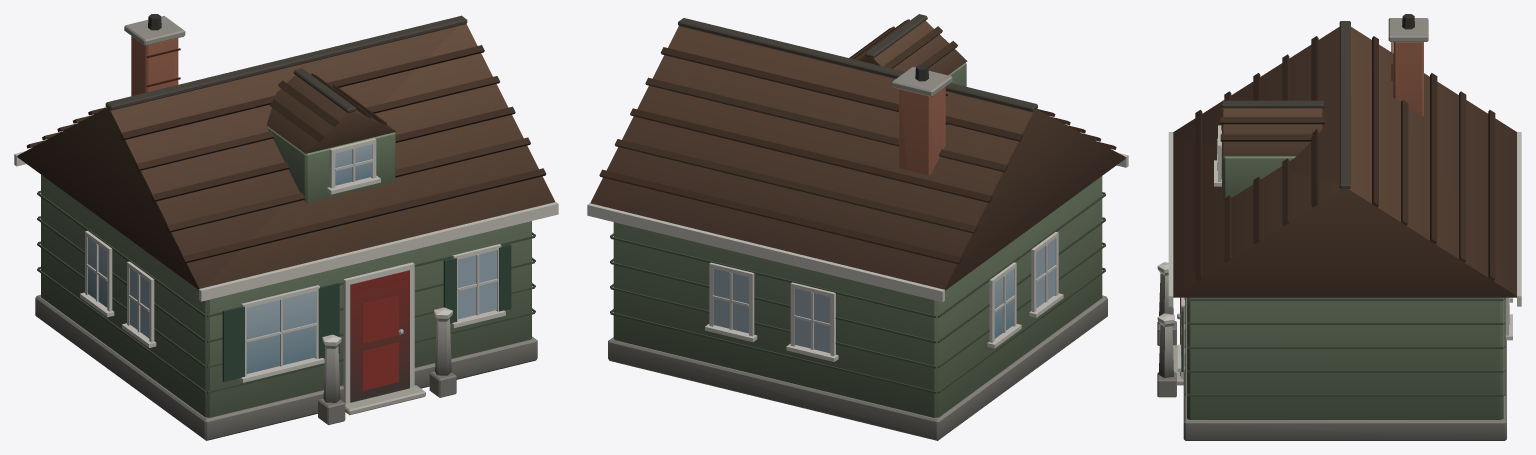
File: bungalow-house.glb
3 renders of one model, left to right at view 1: azimuth 30°, elevation 25°; view 2: azimuth 150°, elevation 25°; view 3: azimuth 270°, elevation 25°, orthographic. The views are drawn at different scales.
Visible parts, largest first — view 1: bungalow_house; view 2: bungalow_house; view 3: bungalow_house.
Boxes of the visible parts, left/top/right/bottom form: bungalow_house: left=14, top=14, right=558, bottom=440; bungalow_house: left=587, top=14, right=1128, bottom=440; bungalow_house: left=1157, top=14, right=1521, bottom=440.
Bounding box in the file's own units: 5.96 × 5.09 × 5.52.
